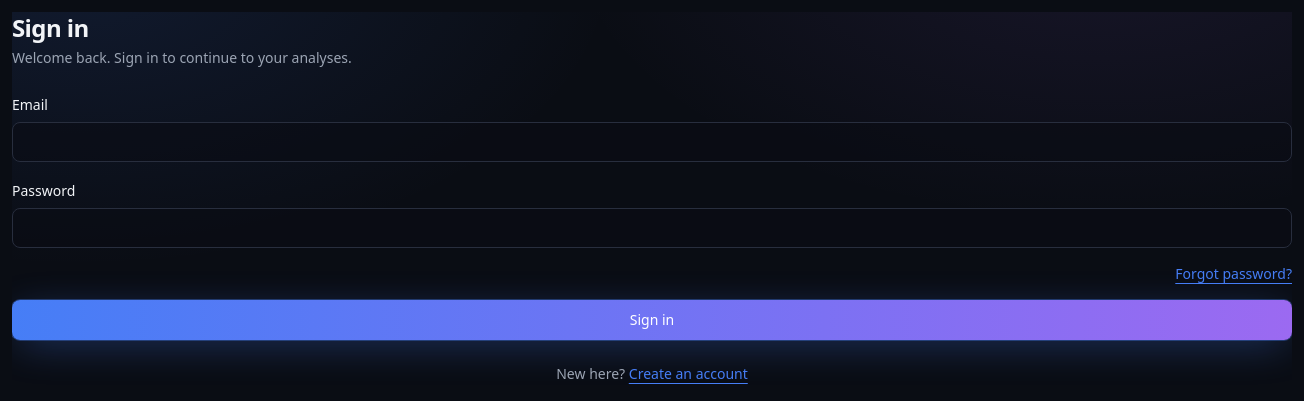
Login form › navigates to the safe return path on success
The width and height of the screenshot is (1304, 401).
Type "a@b.co" into the field labelled "Email" at [652, 142], box [12,122,1292,162]
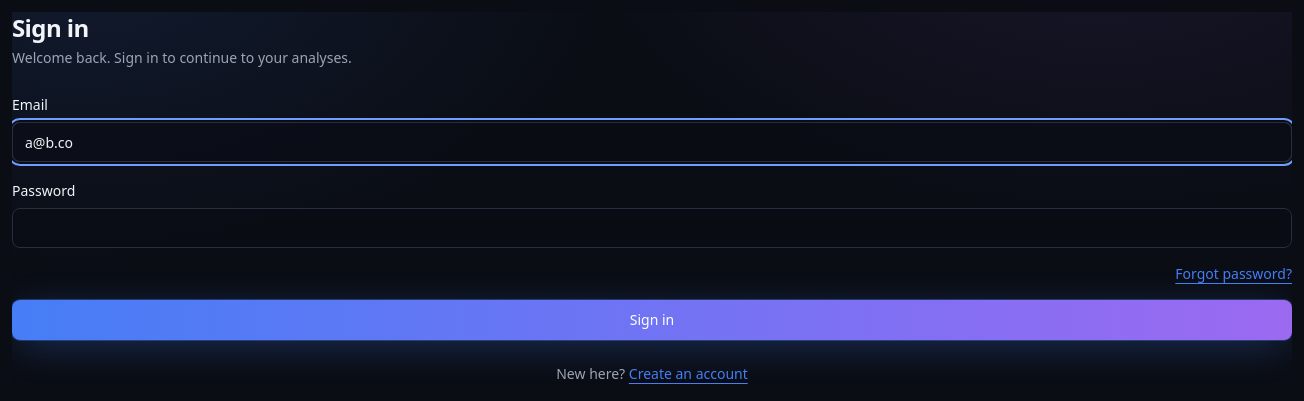
Type "whatever" into the password field labelled "Password" at [652, 228], box [12,208,1292,248]
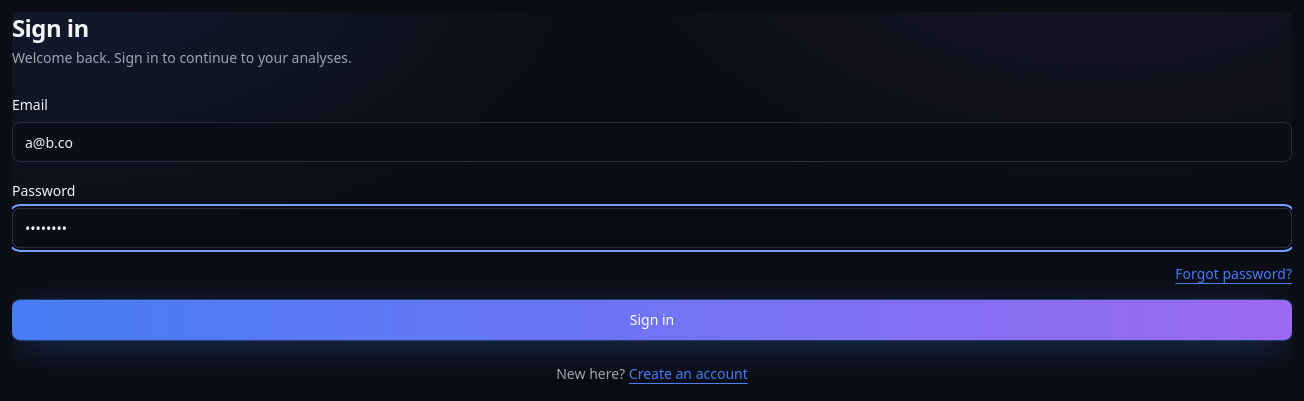
Click the button "Sign in" at [652, 320], box [12,300,1292,340]
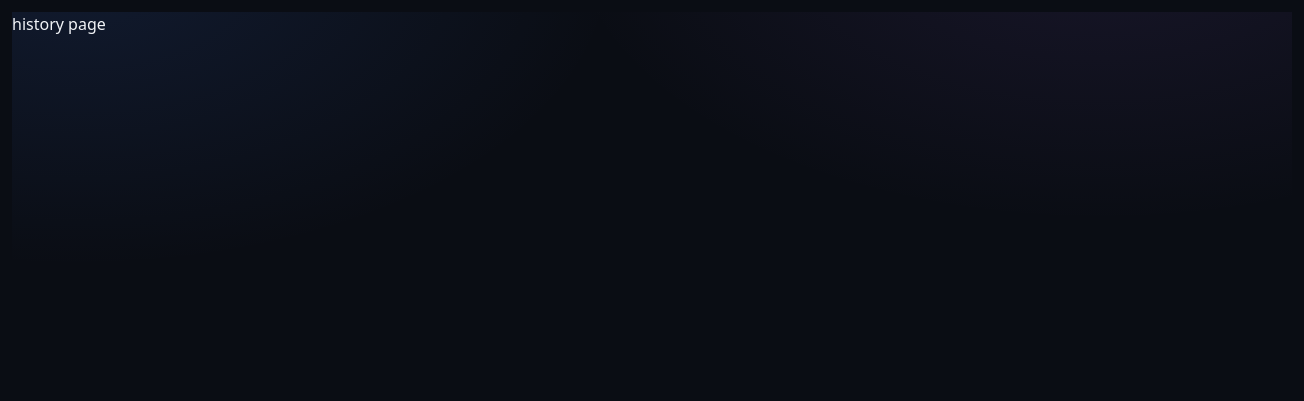
Now the text "history page" is shown, box [12,13,106,35]
